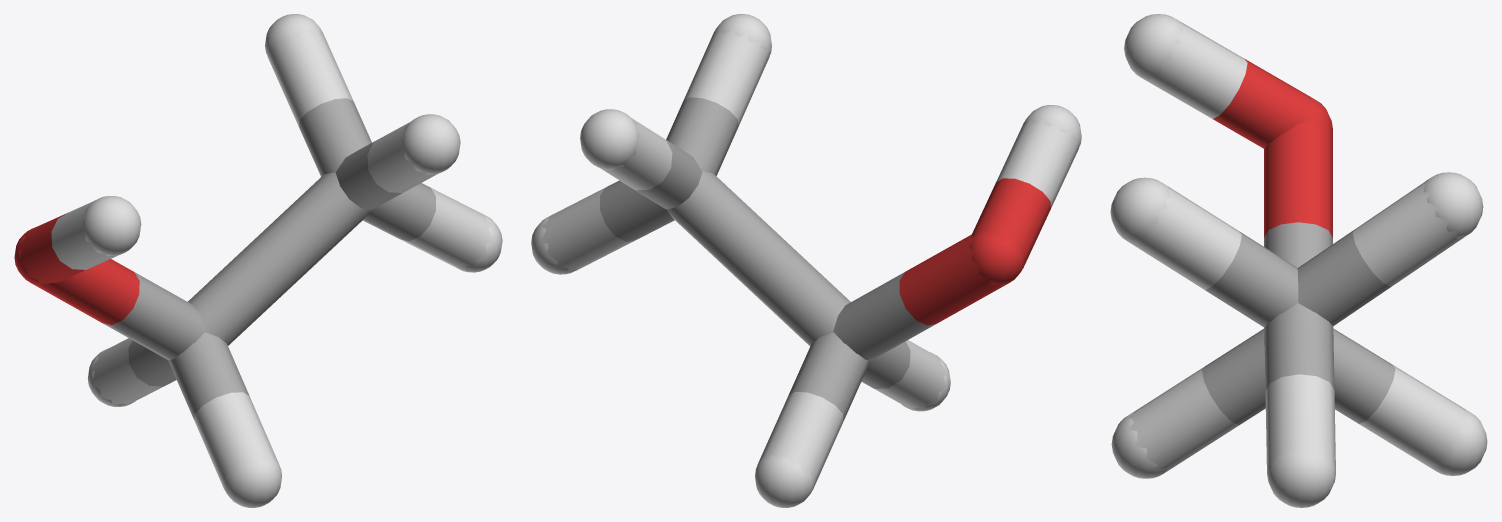
The model's file is ethanol-sticks.glb.
3 views of the same model, side by side, from view 1: azimuth 30°, elevation 25°; view 2: azimuth 150°, elevation 25°; view 3: azimuth 270°, elevation 25° (orthographic). The views are drawn at different scales.
Visible parts, largest first — view 1: ethanol-sticks; view 2: ethanol-sticks; view 3: ethanol-sticks.
Boxes of the visible parts, x1,y1,x2,y2 form: ethanol-sticks: [14, 14, 502, 507]; ethanol-sticks: [531, 14, 1081, 507]; ethanol-sticks: [1110, 14, 1487, 507].
Bounding box in the file's own units: 3.68 × 2.54 × 2.18.
